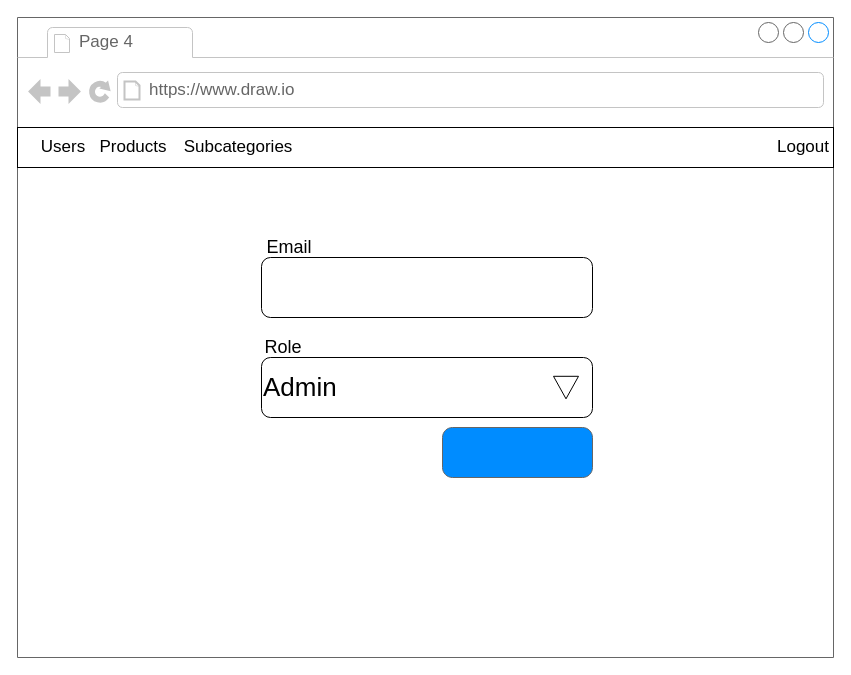
This 851x675 diagram has some shape labels left out. Each missing label, with the centre of its shape:
Edit: [517,452]
gebruiker@mail.com: [426,287]
